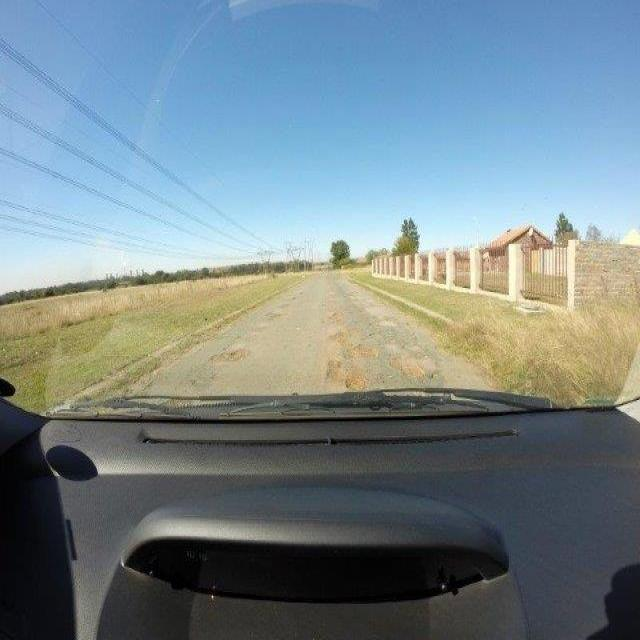lubang: (320, 328, 376, 389), (381, 344, 432, 383), (206, 339, 255, 369), (326, 307, 354, 333), (264, 306, 284, 326)
